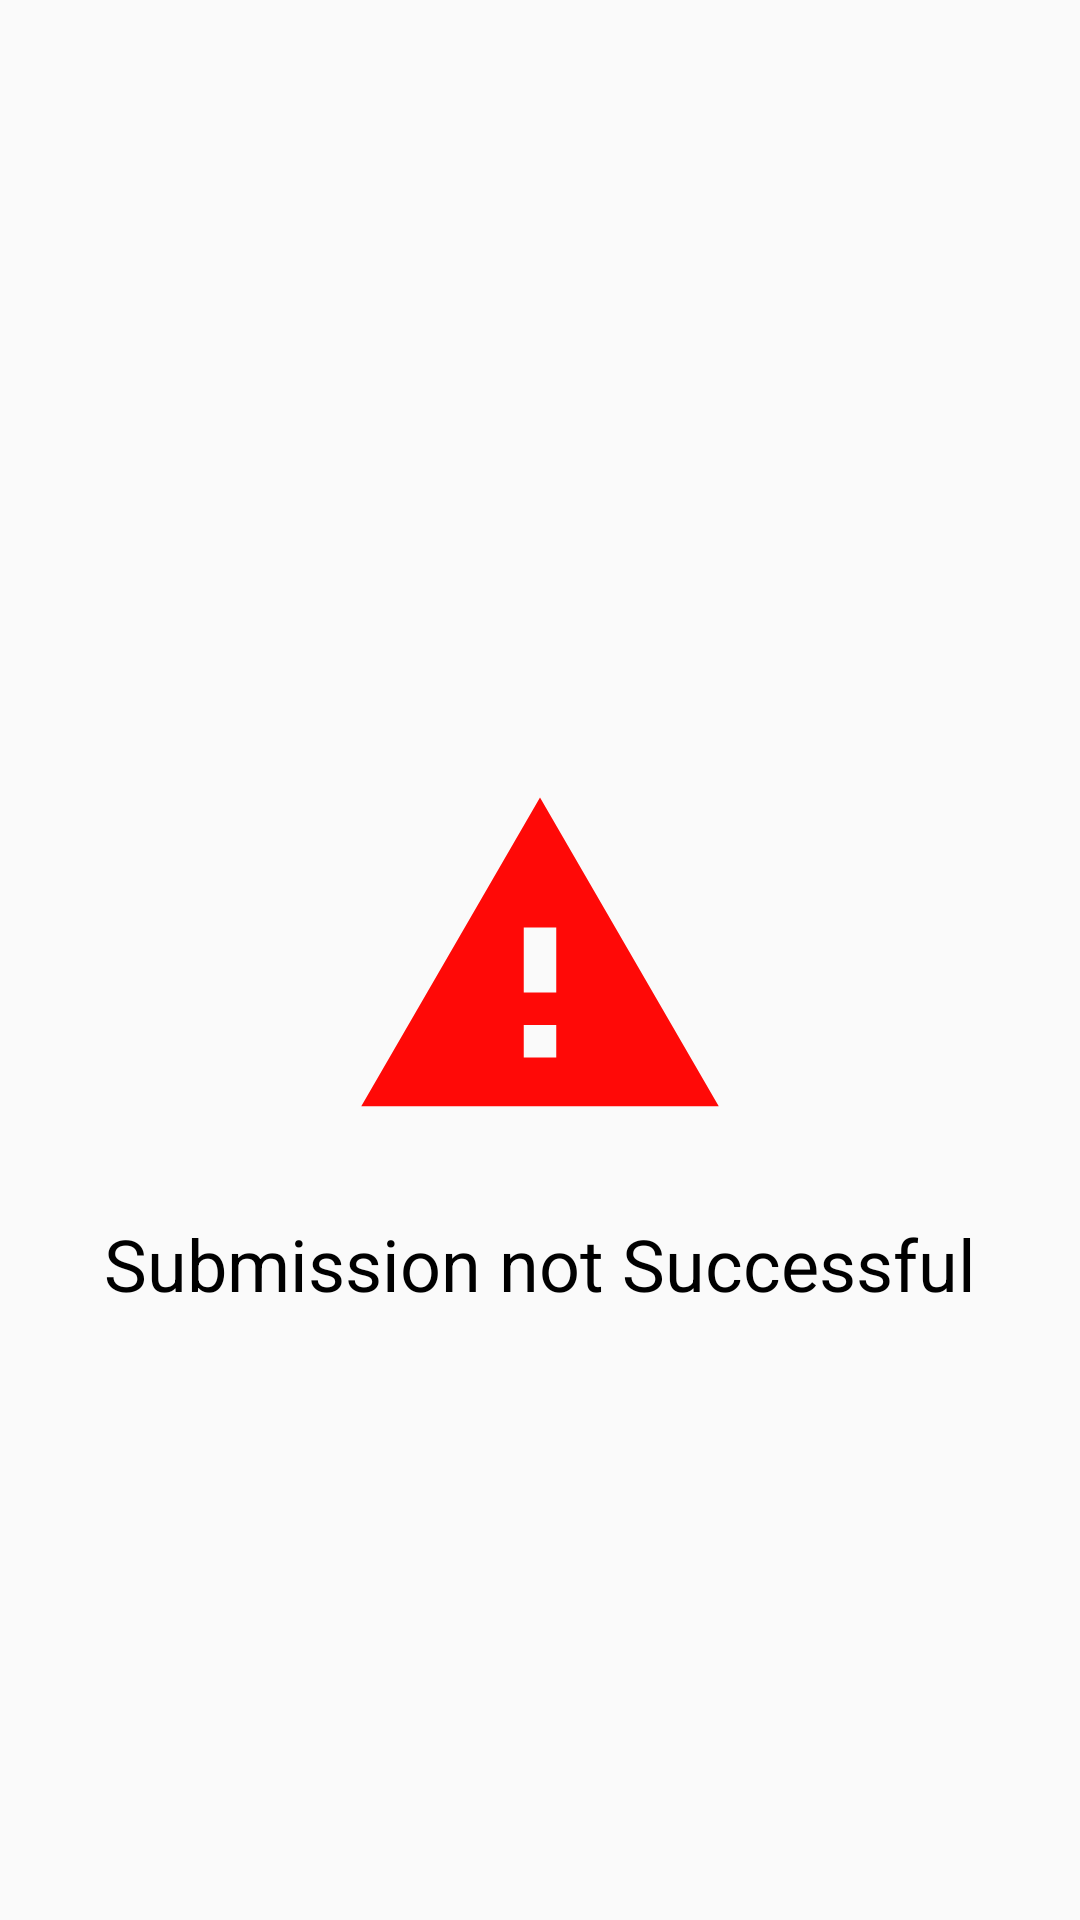

Icon bounding boxes for this 1080px x 1920px phone screenshot, format (x1, y1, x2, y2):
error: (361, 798, 719, 1107)
